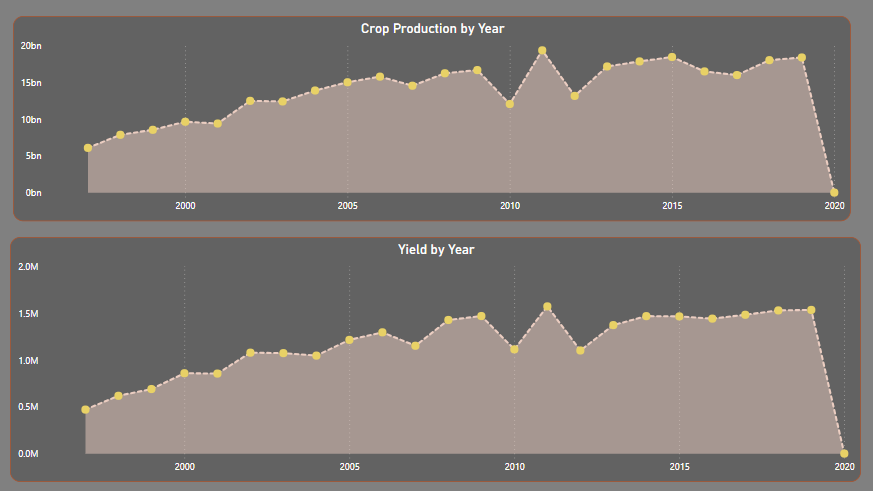

Layout of this report page (visuals, bound fields, positions):
{"tool":"powerbi","page":{"name":"Page 3","canvas":[1280,720],"ordinal":2},"visuals":[{"type":"stackedAreaChart","title":"Crop Production by Year","fields":{"Category":["India Crop Production.Year"],"Y":["Sum(India Crop Production.Production)"]},"box":[37.4,30.2,1204.3,294.6],"z":0},{"type":"areaChart","title":"Yield by Year","fields":{"Category":["India Crop Production.Year"],"Y":["Sum(India Crop Production.Yield)"]},"box":[33.1,347.8,1223,352.1],"z":1000}]}

Visuals, with their boxes in screenshot pixels (x1, y1, x2, y2), scaled from the page's 1280x720 canvas onto the 873x491 screenshot:
"Crop Production by Year" stackedAreaChart: (26, 21, 847, 221)
"Yield by Year" areaChart: (23, 237, 857, 477)
